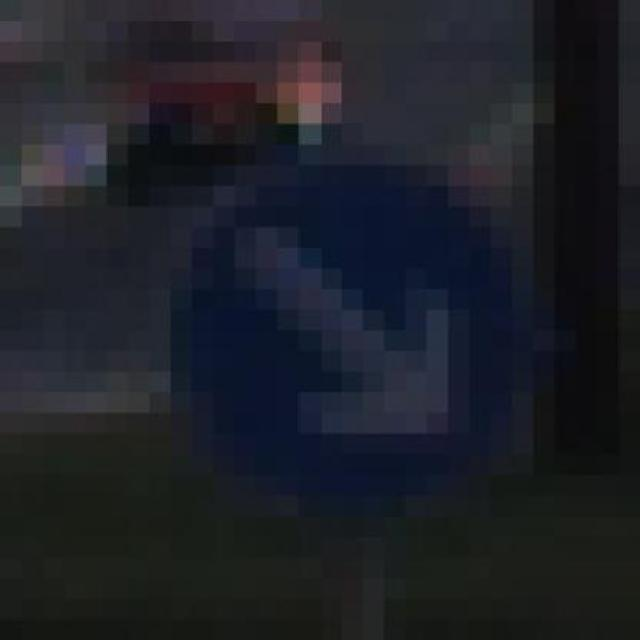Keep-Right: (149, 144, 534, 496)
